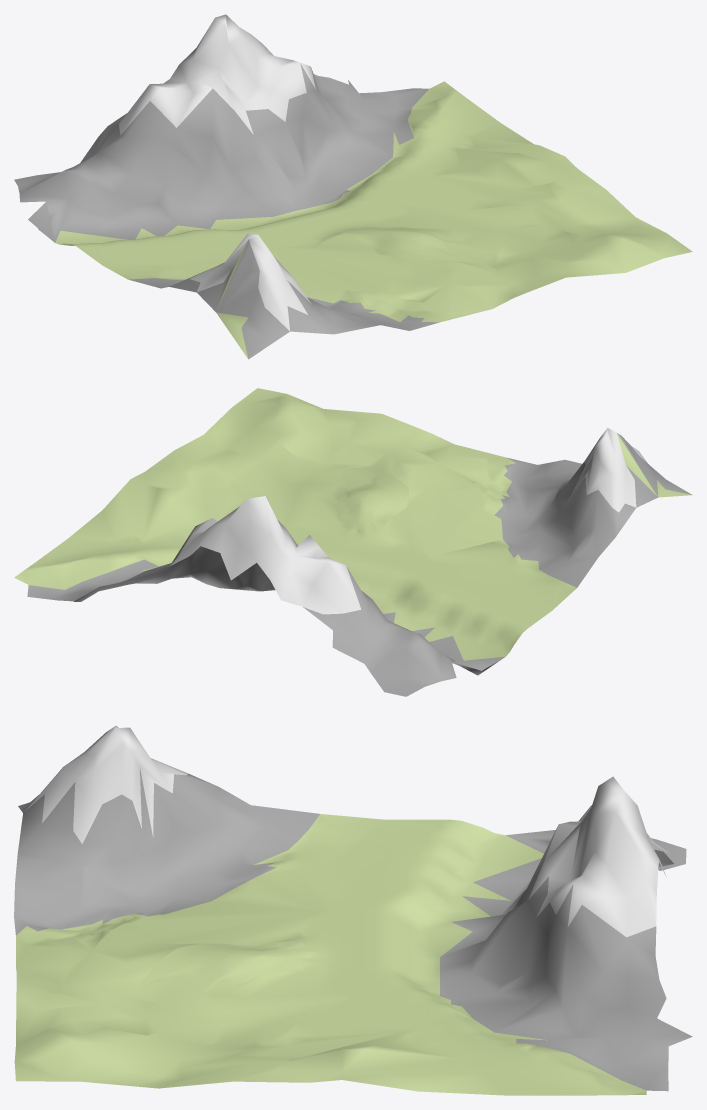
The model's file is land.fbx.
3 views of the same model, one above another, from view 1: azimuth 30°, elevation 25°; view 2: azimuth 150°, elevation 25°; view 3: azimuth 270°, elevation 25° (orthographic). The views are drawn at different scales.
Visible parts, largest first — view 1: pPlane3; view 2: pPlane3; view 3: pPlane3.
Boxes of the visible parts, <box> form: pPlane3: <box>14,14,692,359</box>; pPlane3: <box>14,388,692,696</box>; pPlane3: <box>14,725,692,1095</box>.
Size of the model in its own units: 1005 by 334 by 1040.
